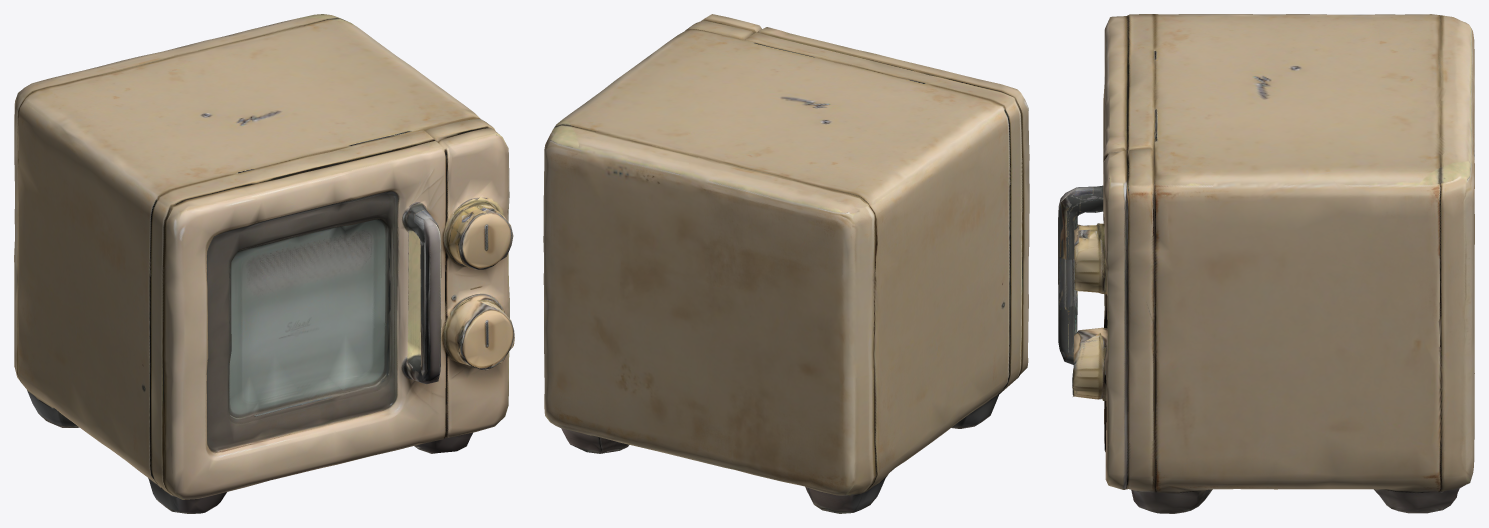
File: Retro_Microwave_0404141333_texture.glb
3 views of the same model, side by side, from view 1: azimuth 30°, elevation 25°; view 2: azimuth 150°, elevation 25°; view 3: azimuth 270°, elevation 25° (orthographic). The views are drawn at different scales.
Bounding box in the file's own units: 1.99 × 1.85 × 2.
1 material, 1 textured.
